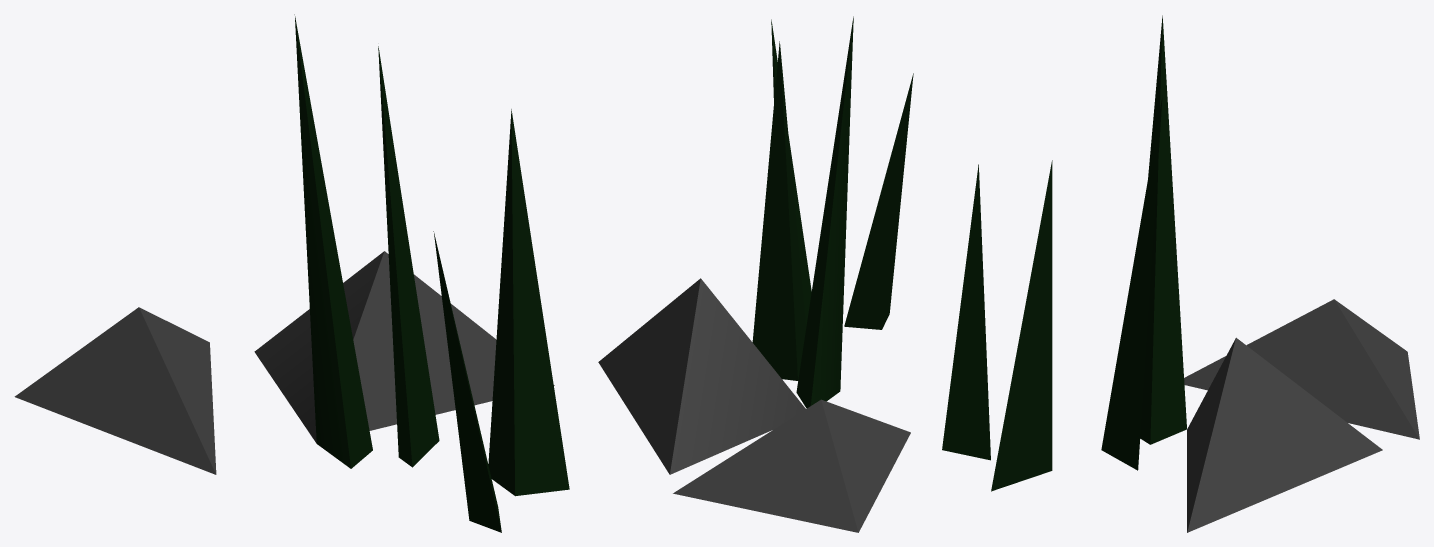
File: grass_and_rocks.obj
3 views of the same model, side by side, from view 1: azimuth 30°, elevation 25°; view 2: azimuth 150°, elevation 25°; view 3: azimuth 270°, elevation 25° (orthographic). The views are drawn at different scales.
Size of the model in its own units: 35 by 36 by 39.
